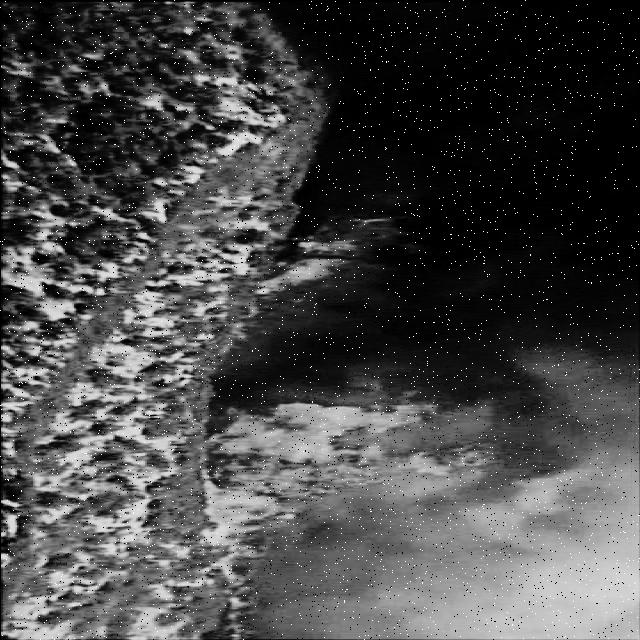api: (194, 397, 490, 640), (203, 213, 450, 383)
asap: (236, 326, 640, 640), (355, 1, 640, 339)
